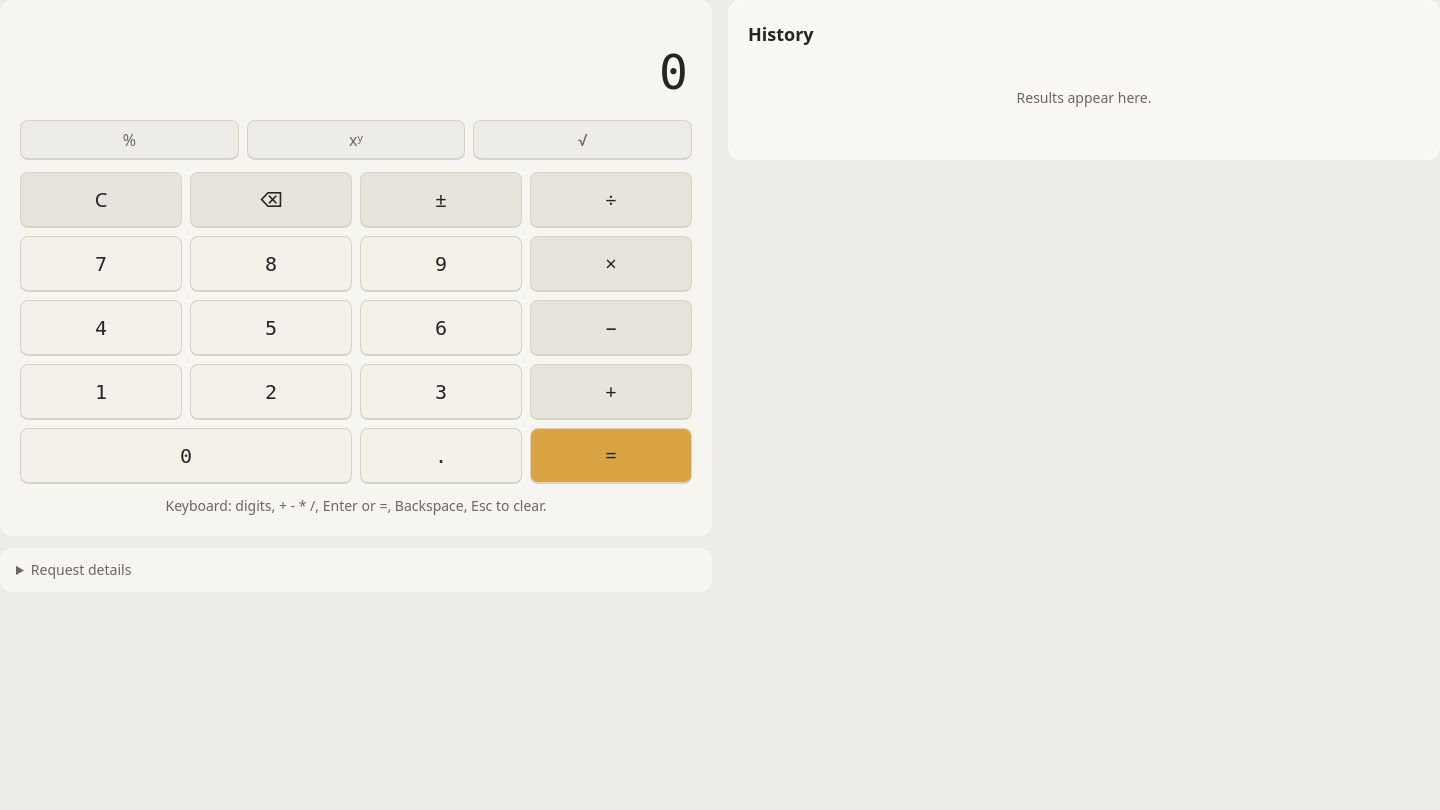
Scenario: Calculator › main flows › chains operations left to right: 2 + 3 × 4 = 20
Click the button "2": (271, 392) x1=190 y1=364 x2=352 y2=420
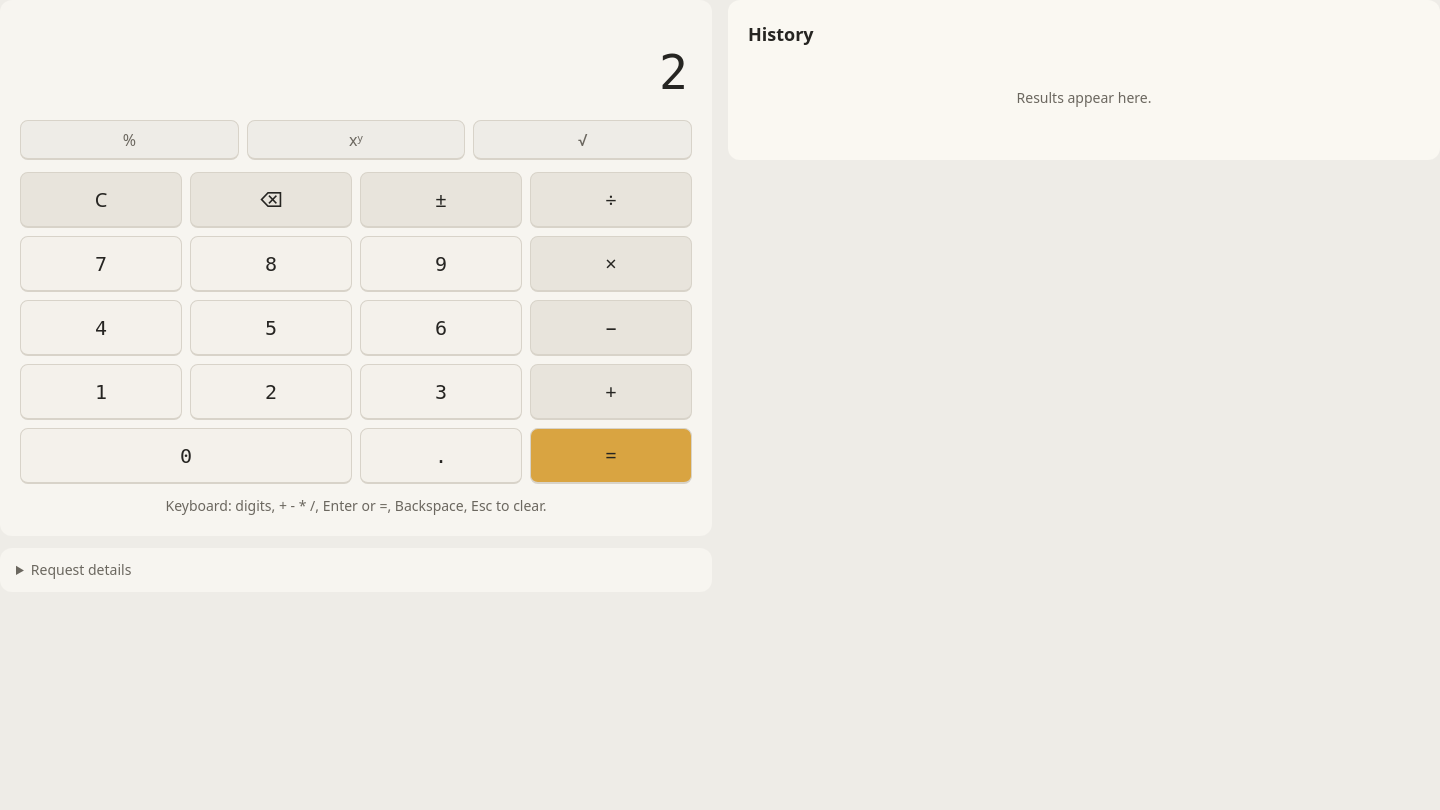
Click the button named "Add": (611, 392) x1=530 y1=364 x2=692 y2=420
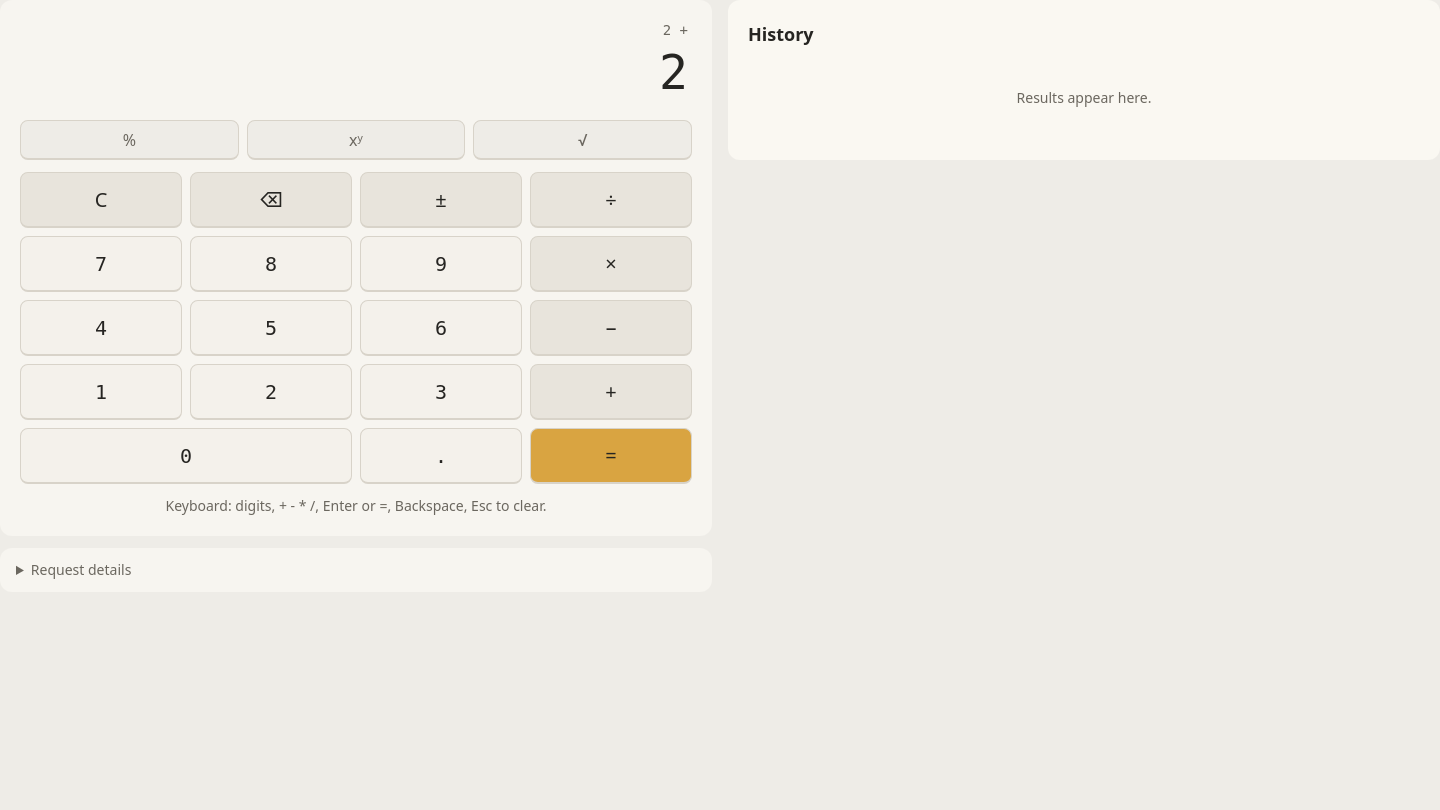
Click the button "3": (441, 392) x1=360 y1=364 x2=522 y2=420
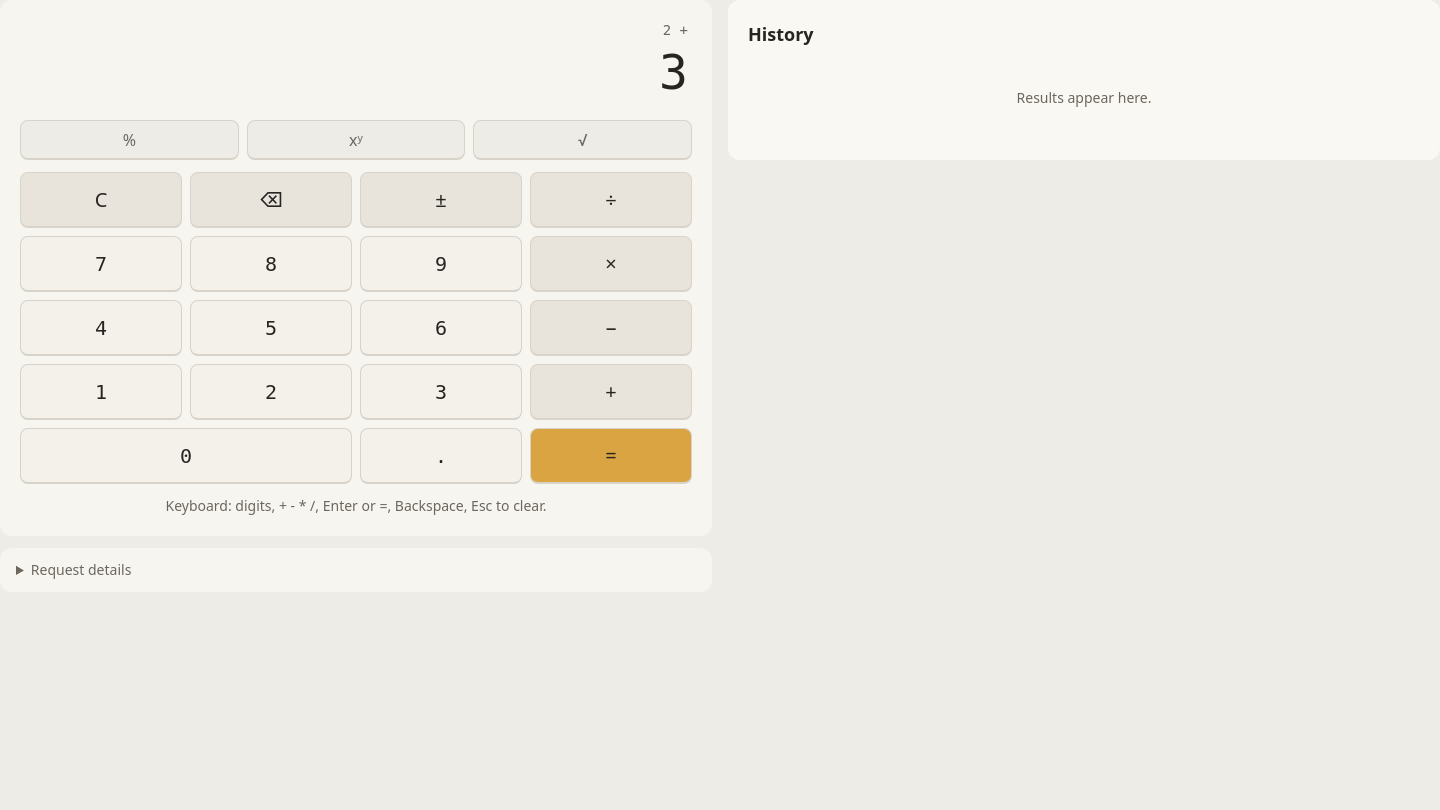
Click the button named "Multiply": (611, 264) x1=530 y1=236 x2=692 y2=292
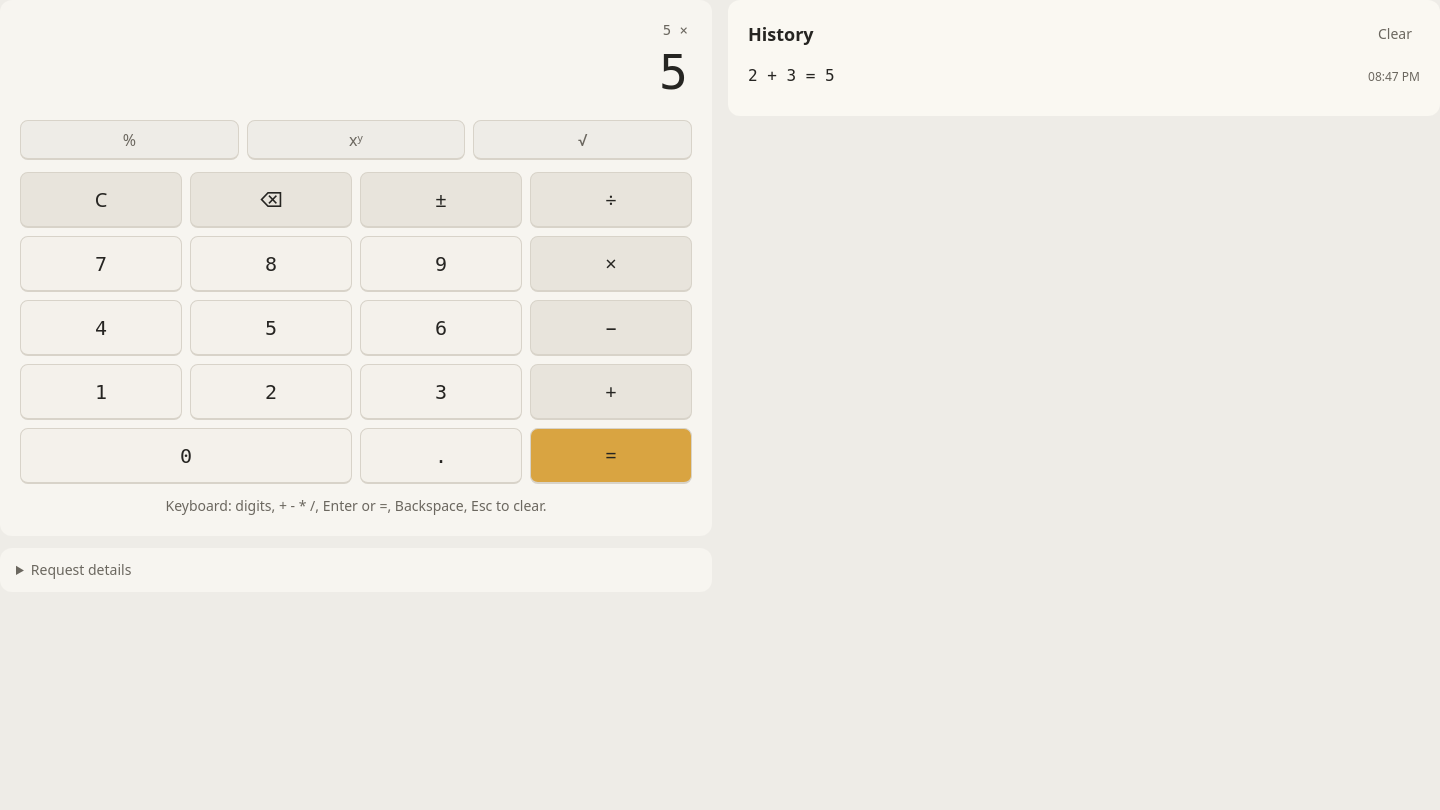
Expected: the button named "Use result: 2 + 3 = 5" is shown, x1=744 y1=64 x2=839 y2=88
Click the button "4": (101, 328) x1=20 y1=300 x2=182 y2=356
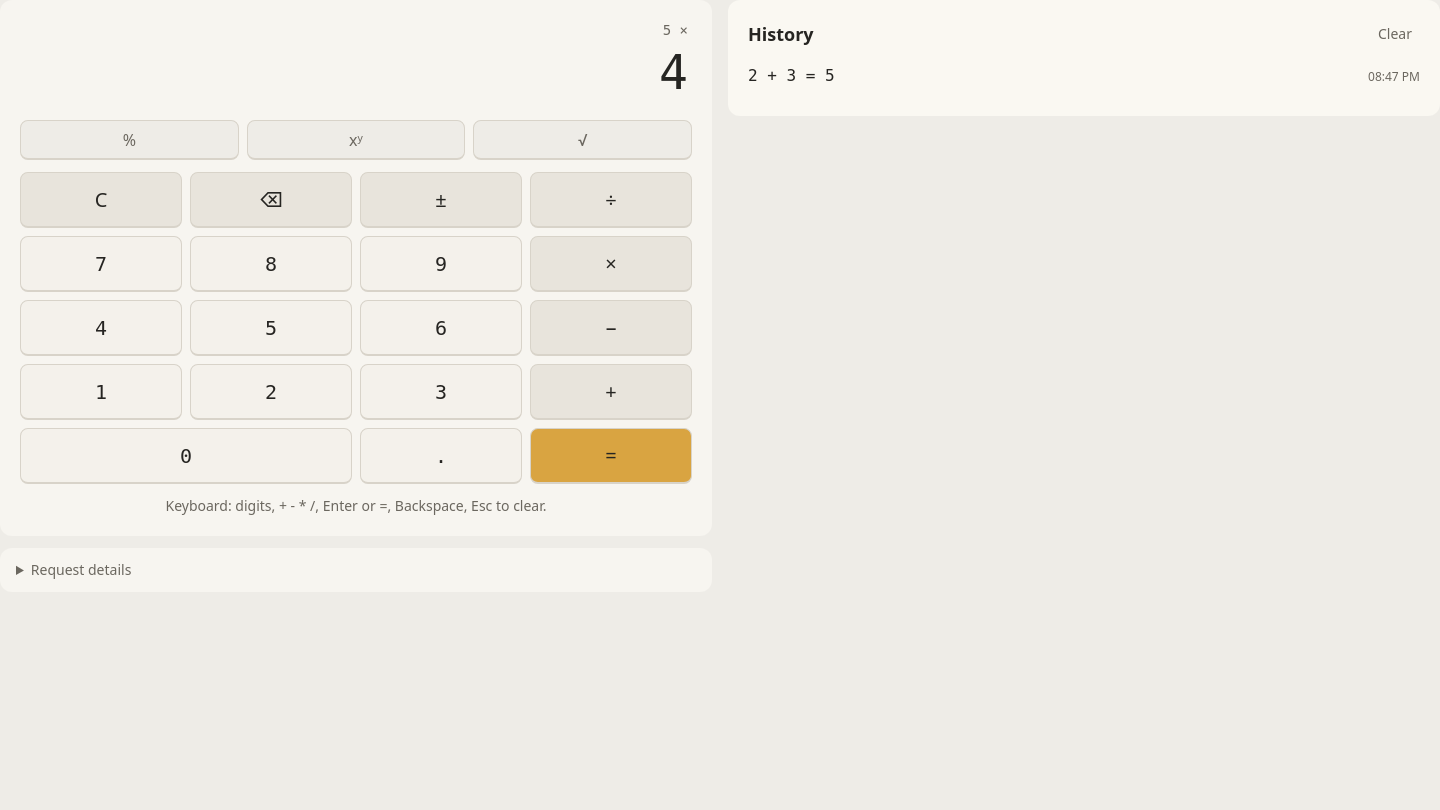
Click the button named "Equals": (611, 456) x1=530 y1=428 x2=692 y2=484
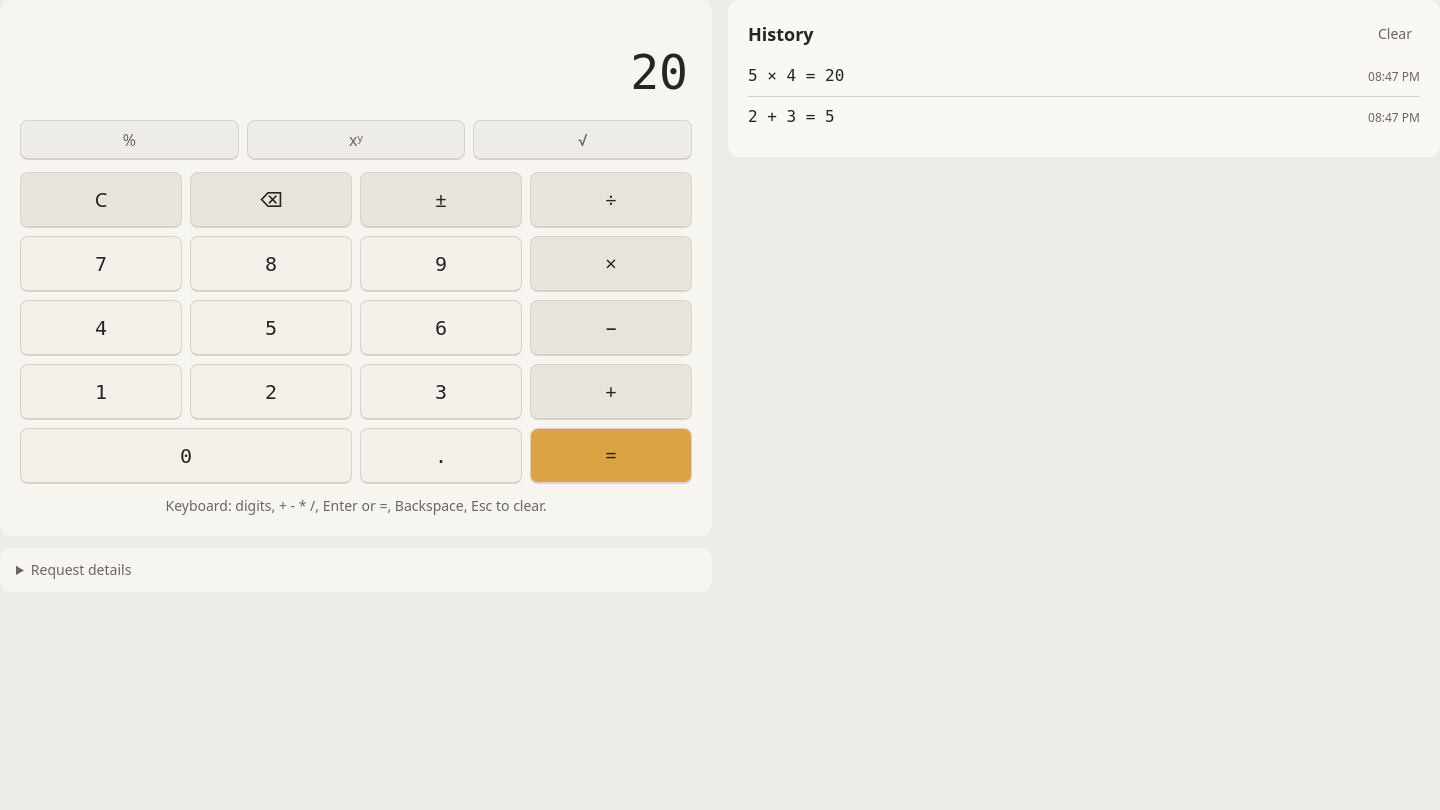
Expected: the button named "Use result: 5 × 4 = 20" is shown, x1=744 y1=64 x2=848 y2=88
